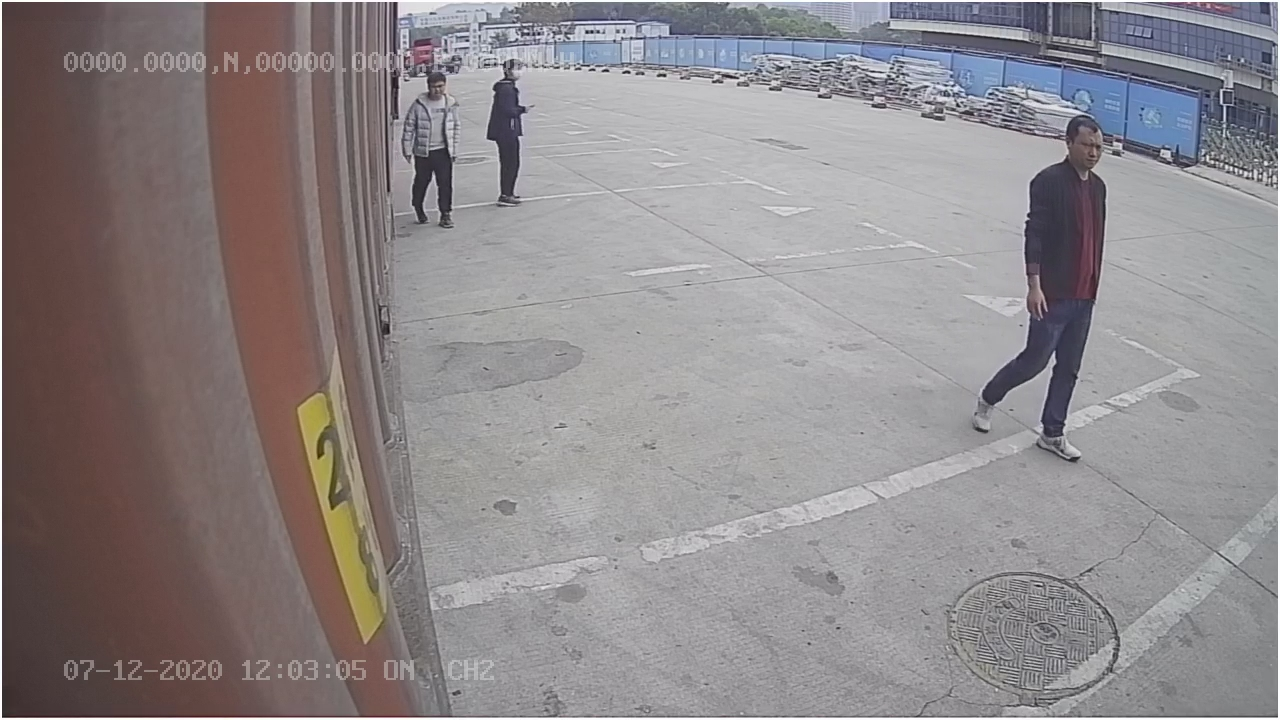person: (963, 106, 1106, 466)
